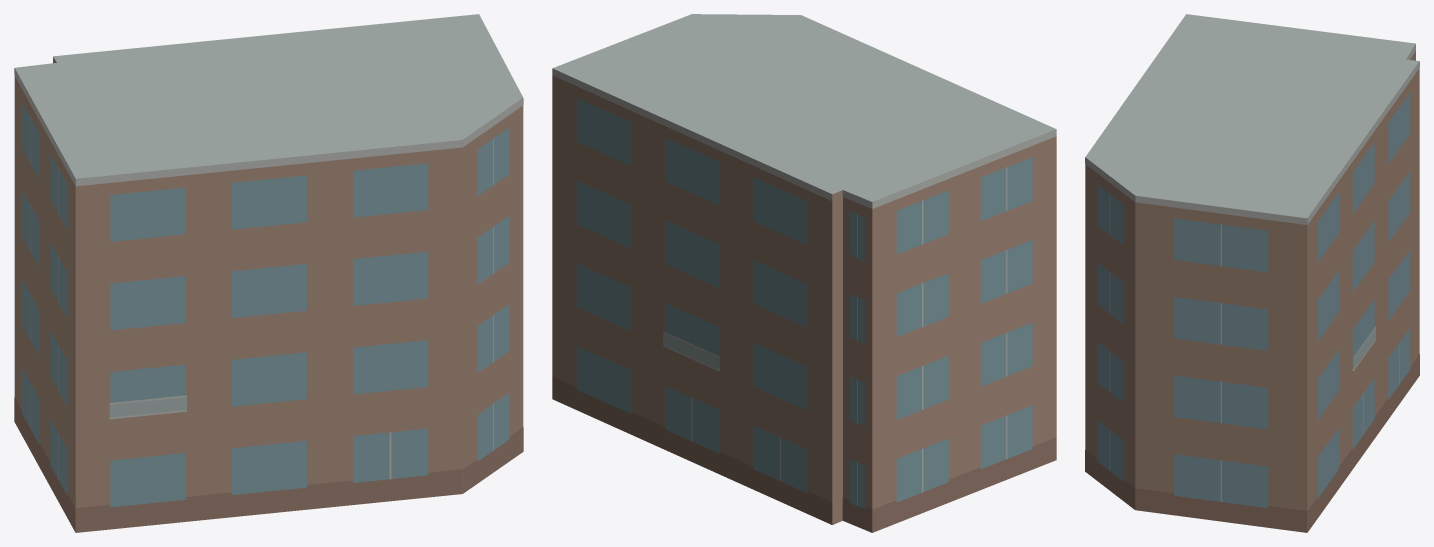
File: survey-upis-32871921.glb
3 renders of one model, left to right at view 1: azimuth 30°, elevation 25°; view 2: azimuth 150°, elevation 25°; view 3: azimuth 270°, elevation 25°, orthographic. The views are drawn at different scales.
Visible parts, largest first — view 1: survey-upis-32871921.tmp; view 2: survey-upis-32871921.tmp; view 3: survey-upis-32871921.tmp.
Part boxes in pixels (box(x1,y1,x2,y2)): survey-upis-32871921.tmp: box(14, 14, 523, 532); survey-upis-32871921.tmp: box(552, 14, 1056, 532); survey-upis-32871921.tmp: box(1085, 14, 1419, 532).
Size of the model in its own units: 16.11 by 11.55 by 11.14.
